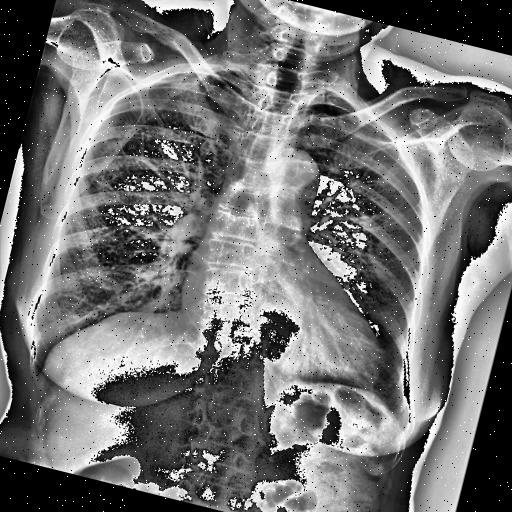0- Aortic enlargement: (268, 145, 324, 206)
10- Pleural effusion: (384, 398, 420, 442)
11- Pleural thickening: (384, 398, 420, 442)
3- Cardiomegaly: (168, 256, 398, 392), (169, 271, 397, 395), (166, 273, 390, 389)
